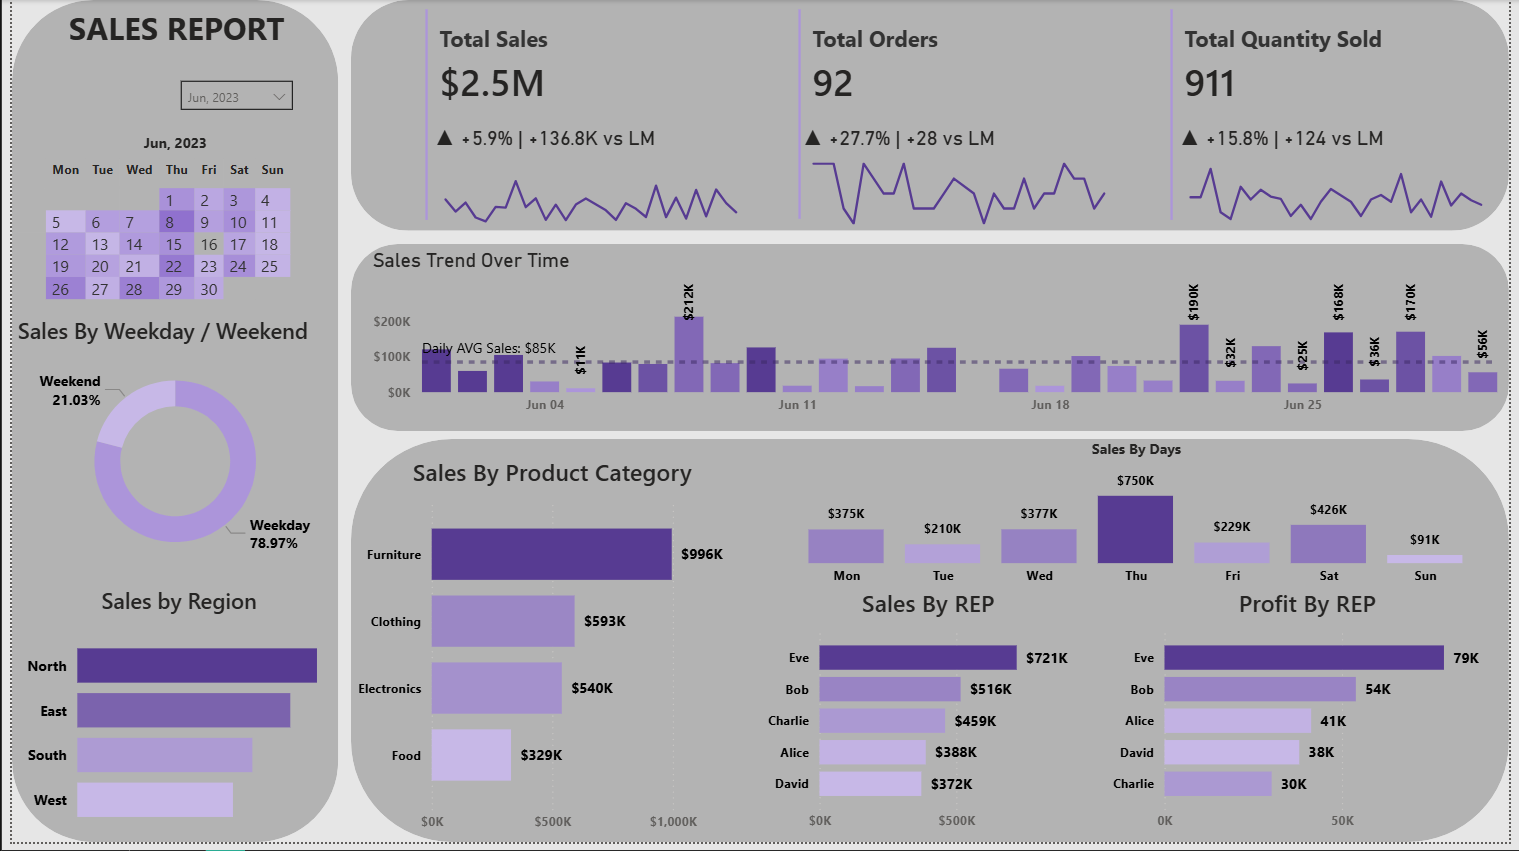

This screenshot's page, from the dashboard's own definition file:
{"tool":"powerbi","page":{"name":"Page 1","canvas":[1280,720],"ordinal":0},"visuals":[{"type":"lineChart","fields":{"Y":["Sales_data1.Total Sum"],"Category":["Date Table.Date"]},"box":[356.4,107.1,278.6,90.2],"z":0,"group":"g1"},{"type":"lineChart","fields":{"Y":["Sales_data1.Total Orders"],"Category":["Date Table.Date"]},"box":[670.8,107.1,278.6,90.2],"z":0,"group":"g2"},{"type":"lineChart","fields":{"Y":["Sales_data1.Total Quantity Sold"],"Category":["Date Table.Date"]},"box":[993.4,107.1,278.6,90.2],"z":0,"group":"g3"},{"type":"shape","box":[289.7,375.4,990.3,344.5],"z":0},{"type":"cardVisual","fields":{"Data":["Sales_data1.Total Sum"]},"box":[333.8,0,309,197.4],"z":1000,"group":"g1"},{"type":"cardVisual","fields":{"Data":["Sales_data1.Total Orders"]},"box":[652.8,0,309.2,197],"z":1000,"group":"g2"},{"type":"cardVisual","fields":{"Data":["Sales_data1.Total Quantity Sold"]},"box":[970.8,0,309,197.4],"z":1000,"group":"g3"},{"type":"shape","box":[289.7,208.5,990.3,159.9],"z":1000},{"type":"shape","box":[289.8,0,990.2,197.5],"z":2000},{"type":"shape","box":[0,0,279,720.1],"z":3000},{"type":"donutChart","title":"Sales By Weekday / Weekend","fields":{"Category":["Date Table.Weekday / Weekend"],"Y":["Sum(Sales_data1.Sales_Amount)"]},"box":[0,270.3,279.1,223.5],"z":4000},{"type":"pivotTable","fields":{"Rows":["Date Table.Week Number"],"Columns":["Date Table.Day Name"],"Values":["Min(Date Table.Day Number)"]},"box":[0,130.7,250,132.5],"z":5000},{"type":"cardVisual","fields":{"Data":["Min(Date Table.Month Year)"]},"box":[69.8,91.9,139.6,58.3],"z":6000},{"type":"slicer","fields":{"Values":["Date Table.Month Year"]},"box":[134.3,59.2,115.7,39.8],"z":7000},{"type":"group","id":"g1","title":"Total Sales","box":[333.8,0,309.2,197.9],"z":8000},{"type":"group","id":"g2","title":"Total Orders","box":[652.8,0,309.2,197],"z":9000},{"type":"group","id":"g3","title":"Total QS","box":[970.8,0,309.2,197.9],"z":10000},{"type":"textbox","box":[43.3,0,206.7,52.1],"z":11000},{"type":"barChart","title":"Sales by Region","fields":{"Category":["Sales_data1.Region"],"Y":["Sales_data1.Total Sales"]},"box":[6.9,501,272.1,219.1],"z":12000},{"type":"columnChart","title":"Sales Trend Over Time","fields":{"Category":["Sales_data1.Sale_Date"],"Y":["Sales_data1.Total Sales"]},"box":[303.5,212.2,976.5,152.3],"z":13000},{"type":"barChart","title":"Sales By Product Category","fields":{"Category":["Sales_data1.Product_Category"],"Y":["Sales_data1.Total Sales"]},"box":[289.7,388.7,344.5,331.3],"z":14000},{"type":"barChart","title":"Sales By REP","fields":{"Category":["Sales_data1.Sales_Rep"],"Y":["Sales_data1.Total Sales"]},"box":[640.4,500.9,286.2,219.1],"z":15000},{"type":"barChart","title":"Profit By REP","fields":{"Category":["Sales_data1.Sales_Rep"],"Y":["Sum(Sales_data1.Profit)"]},"box":[935.5,500.9,344.5,219.1],"z":16000},{"type":"columnChart","title":"Sales By Days","fields":{"Y":["Sales_data1.Total Sales"],"Category":["Date Table.Day Name"]},"box":[643.1,375.4,636.9,135.2],"z":17000}]}

Visuals, with their boxes in screenshot pixels (x1, y1, x2, y2), scaled from the page's 1280x720 canvas onto the 1519x851 screenshot:
lineChart - Sales_data1.Total Sum x Date Table.Date: 423:127:754:233
lineChart - Sales_data1.Total Orders x Date Table.Date: 796:127:1127:233
lineChart - Sales_data1.Total Quantity Sold x Date Table.Date: 1179:127:1510:233
shape: 344:444:1518:850
cardVisual - Sales_data1.Total Sum: 396:0:763:233
cardVisual - Sales_data1.Total Orders: 775:0:1142:233
cardVisual - Sales_data1.Total Quantity Sold: 1152:0:1518:233
shape: 344:246:1518:435
shape: 344:0:1518:233
shape: 0:0:331:850
"Sales By Weekday / Weekend" donutChart: 0:319:331:584
pivotTable - Date Table.Week Number x Date Table.Day Name: 0:154:297:311
cardVisual - Min(Date Table.Month Year): 83:109:248:178
slicer - Date Table.Month Year: 159:70:297:117
"Total Sales" group: 396:0:763:234
"Total Orders" group: 775:0:1142:233
"Total QS" group: 1152:0:1518:234
textbox: 51:0:297:62
"Sales by Region" barChart: 8:592:331:850
"Sales Trend Over Time" columnChart: 360:251:1518:431
"Sales By Product Category" barChart: 344:459:753:850
"Sales By REP" barChart: 760:592:1100:850
"Profit By REP" barChart: 1110:592:1518:850
"Sales By Days" columnChart: 763:444:1518:604
